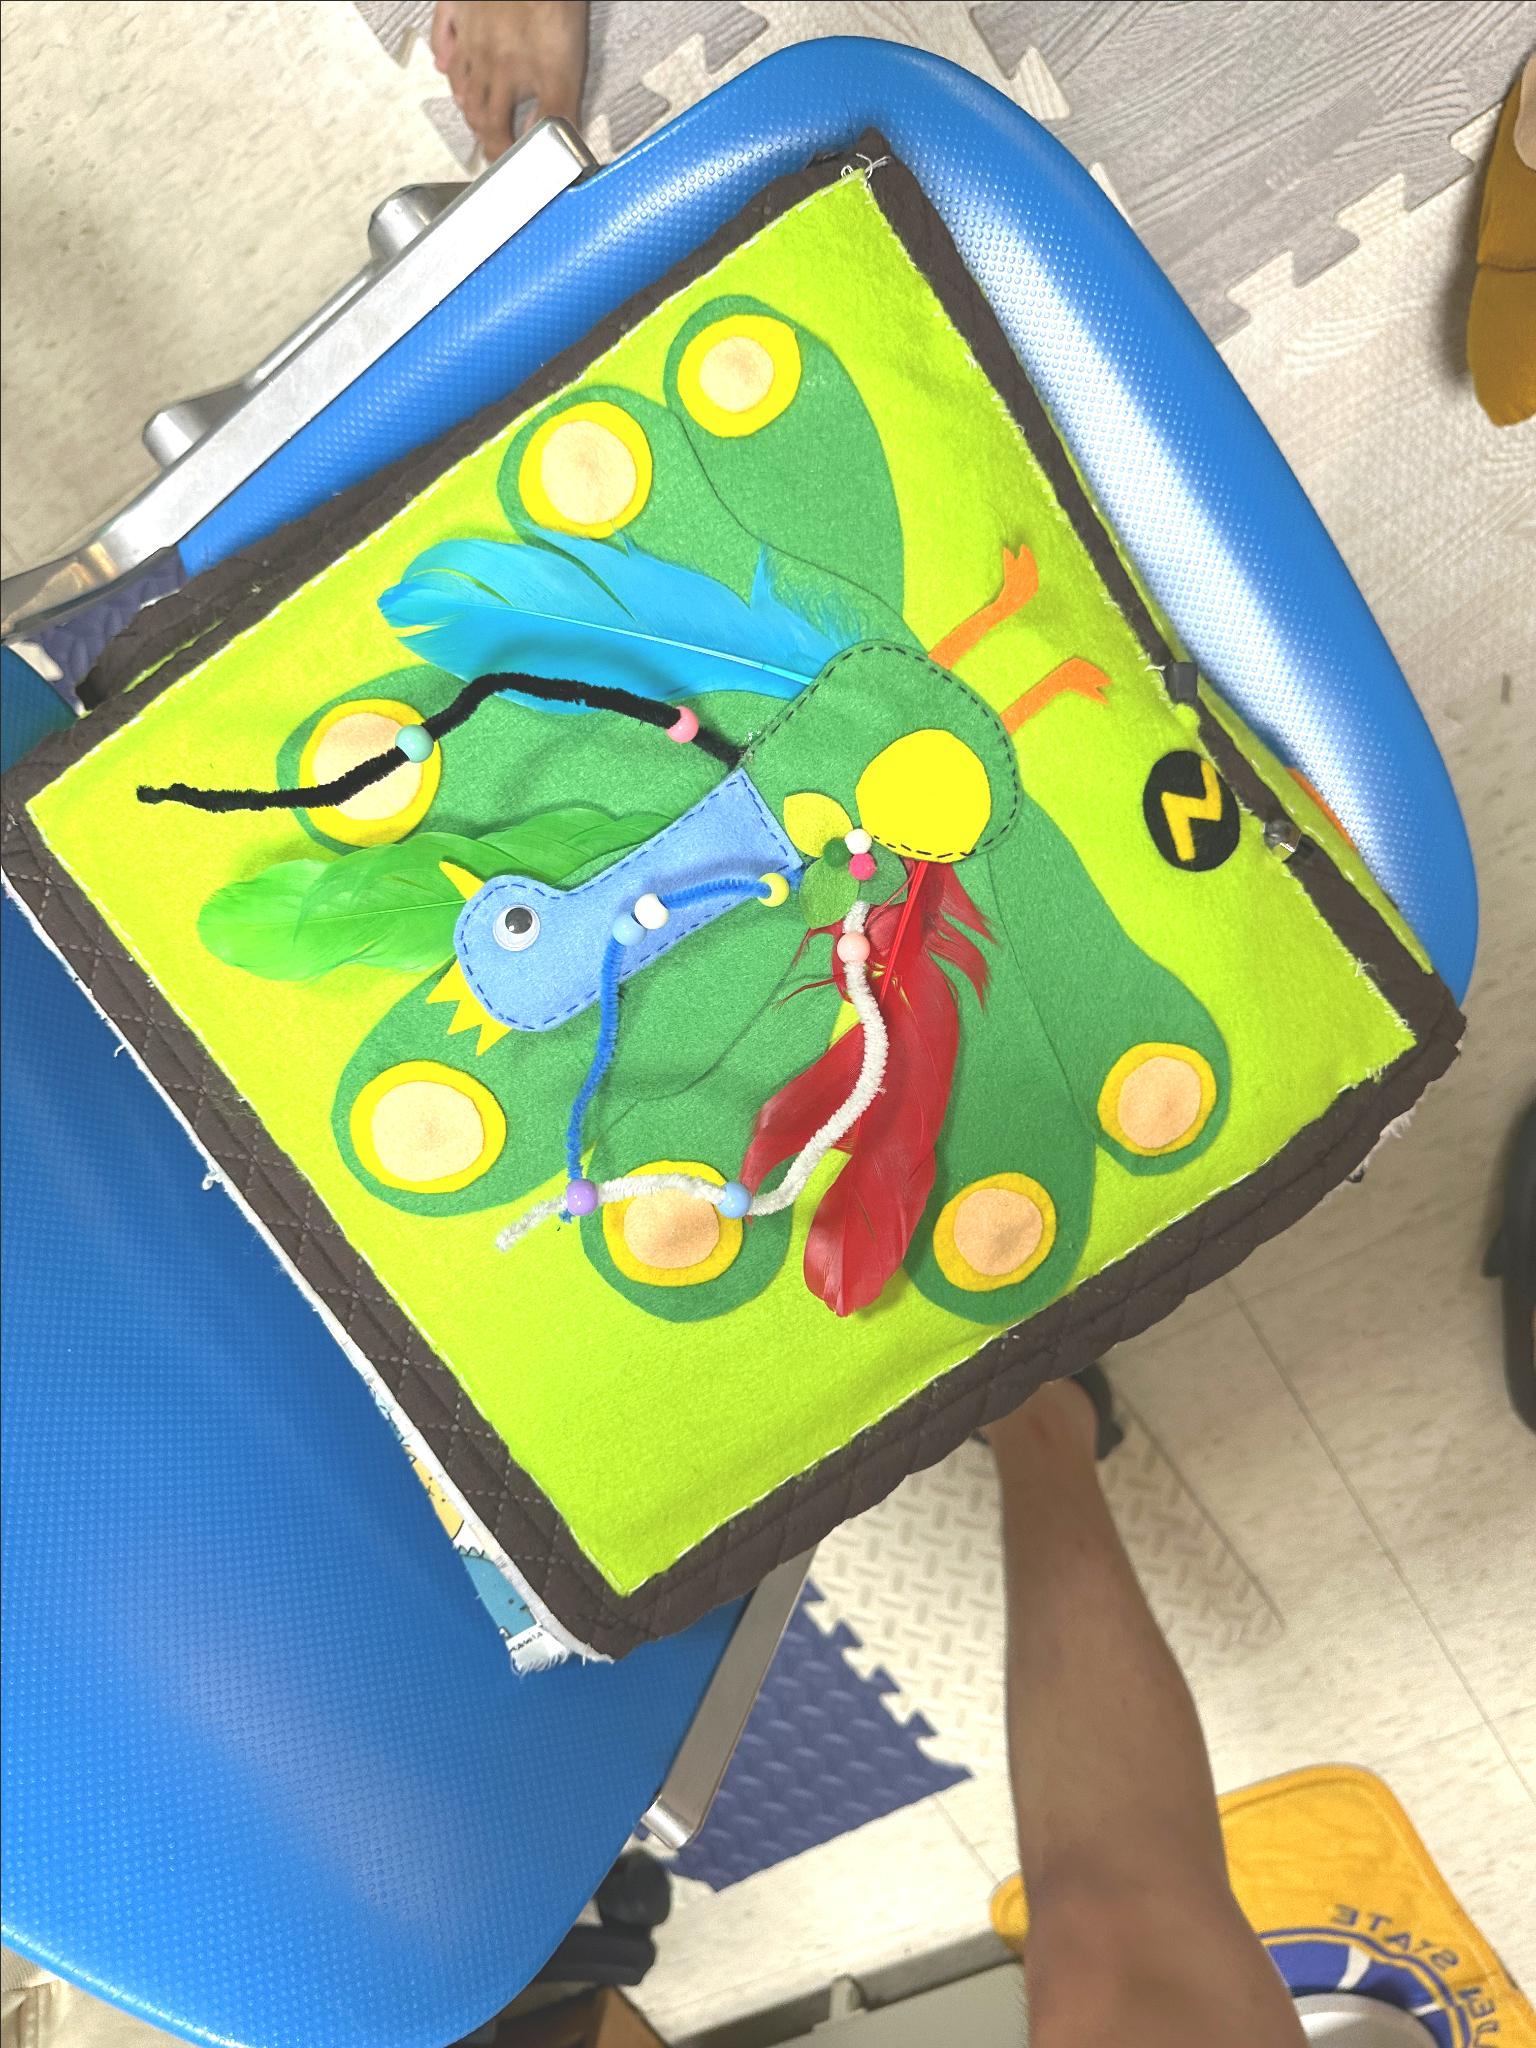bead: (544, 1169, 618, 1232), (707, 1155, 762, 1238), (384, 705, 447, 769), (658, 684, 715, 748), (823, 927, 878, 974), (752, 876, 794, 916), (607, 906, 644, 950), (641, 889, 676, 929)
